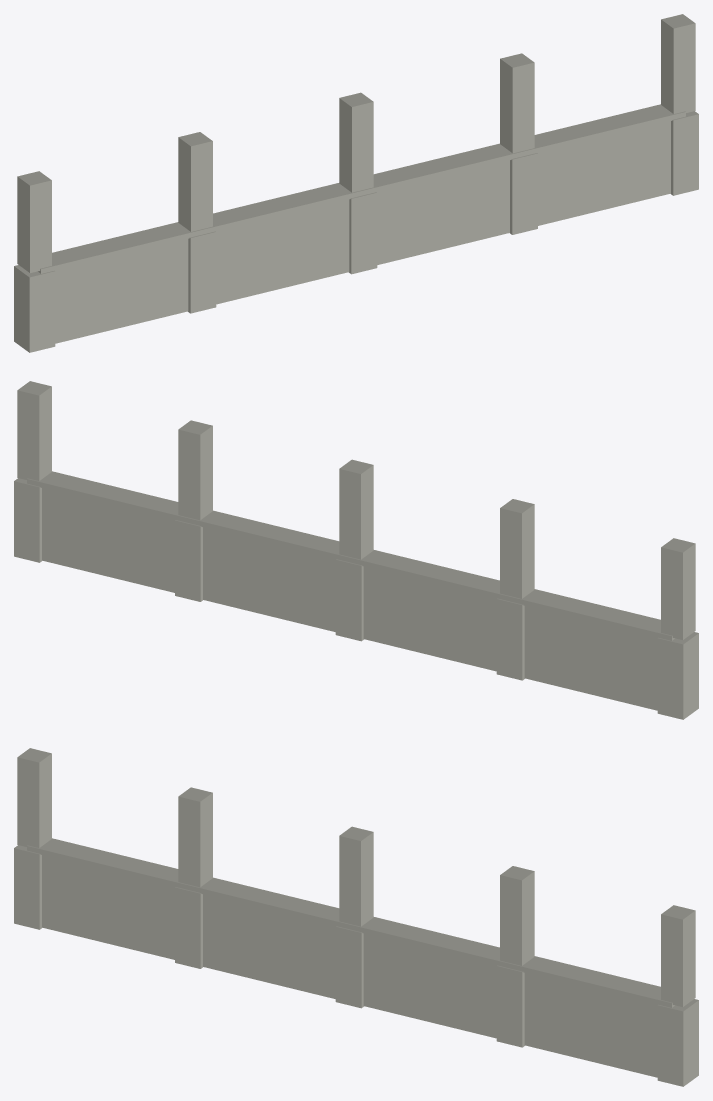
The model's file is SM_Tapia_v2_Bloque_LOD1.fbx.
3 views of the same model, one above another, from view 1: azimuth 30°, elevation 25°; view 2: azimuth 150°, elevation 25°; view 3: azimuth 330°, elevation 25° (orthographic).
Parts seen in each view (by area): view 1: SM_huerta_nules_v7_LOD1; view 2: SM_huerta_nules_v7_LOD1; view 3: SM_huerta_nules_v7_LOD1.
Boxes of the visible parts, left/top/right/bottom form: SM_huerta_nules_v7_LOD1: left=14, top=14, right=698, bottom=352; SM_huerta_nules_v7_LOD1: left=14, top=381, right=698, bottom=719; SM_huerta_nules_v7_LOD1: left=14, top=748, right=698, bottom=1086.
Bounding box in the file's own units: 10.4 × 2.46 × 0.42.
